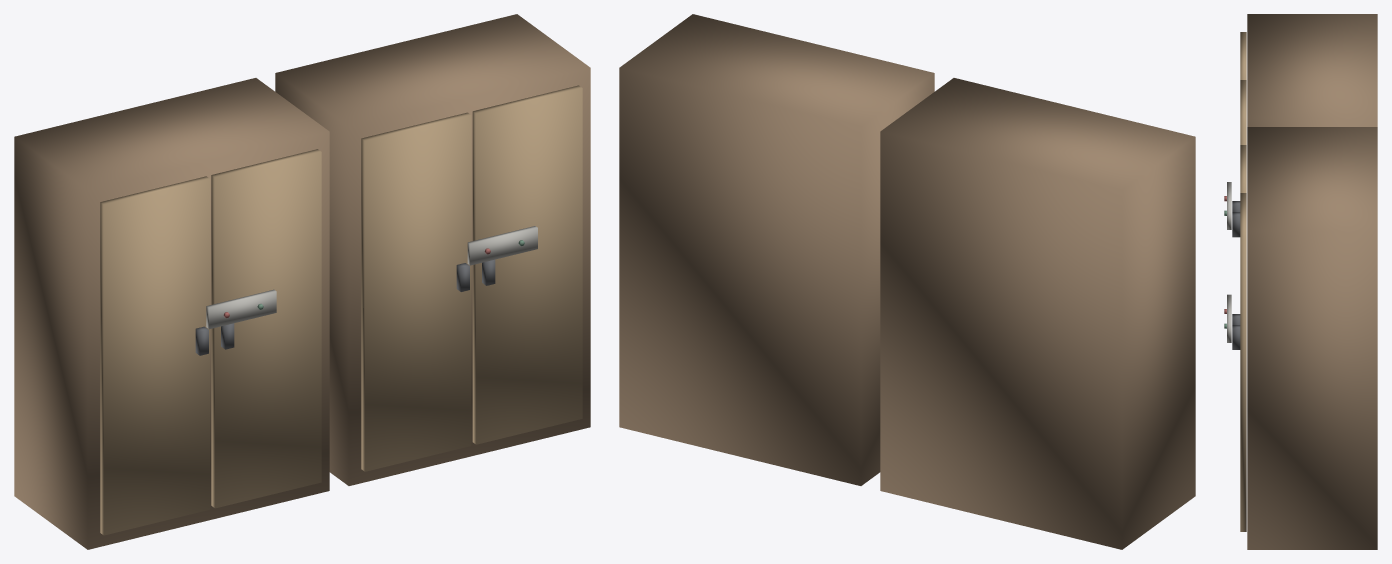
File: evidence_cabinet__cluster.glb
3 renders of one model, left to right at view 1: azimuth 30°, elevation 25°; view 2: azimuth 150°, elevation 25°; view 3: azimuth 270°, elevation 25°, orthographic. The views are drawn at different scales.
Parts seen in each view (by area): view 1: world; view 2: world; view 3: world.
Part boxes in pixels (bbox=[...]): world: bbox=[14, 14, 590, 549]; world: bbox=[619, 14, 1195, 549]; world: bbox=[1224, 14, 1377, 549].
Size of the model in its own units: 1.98 by 1.35 by 0.5885.
